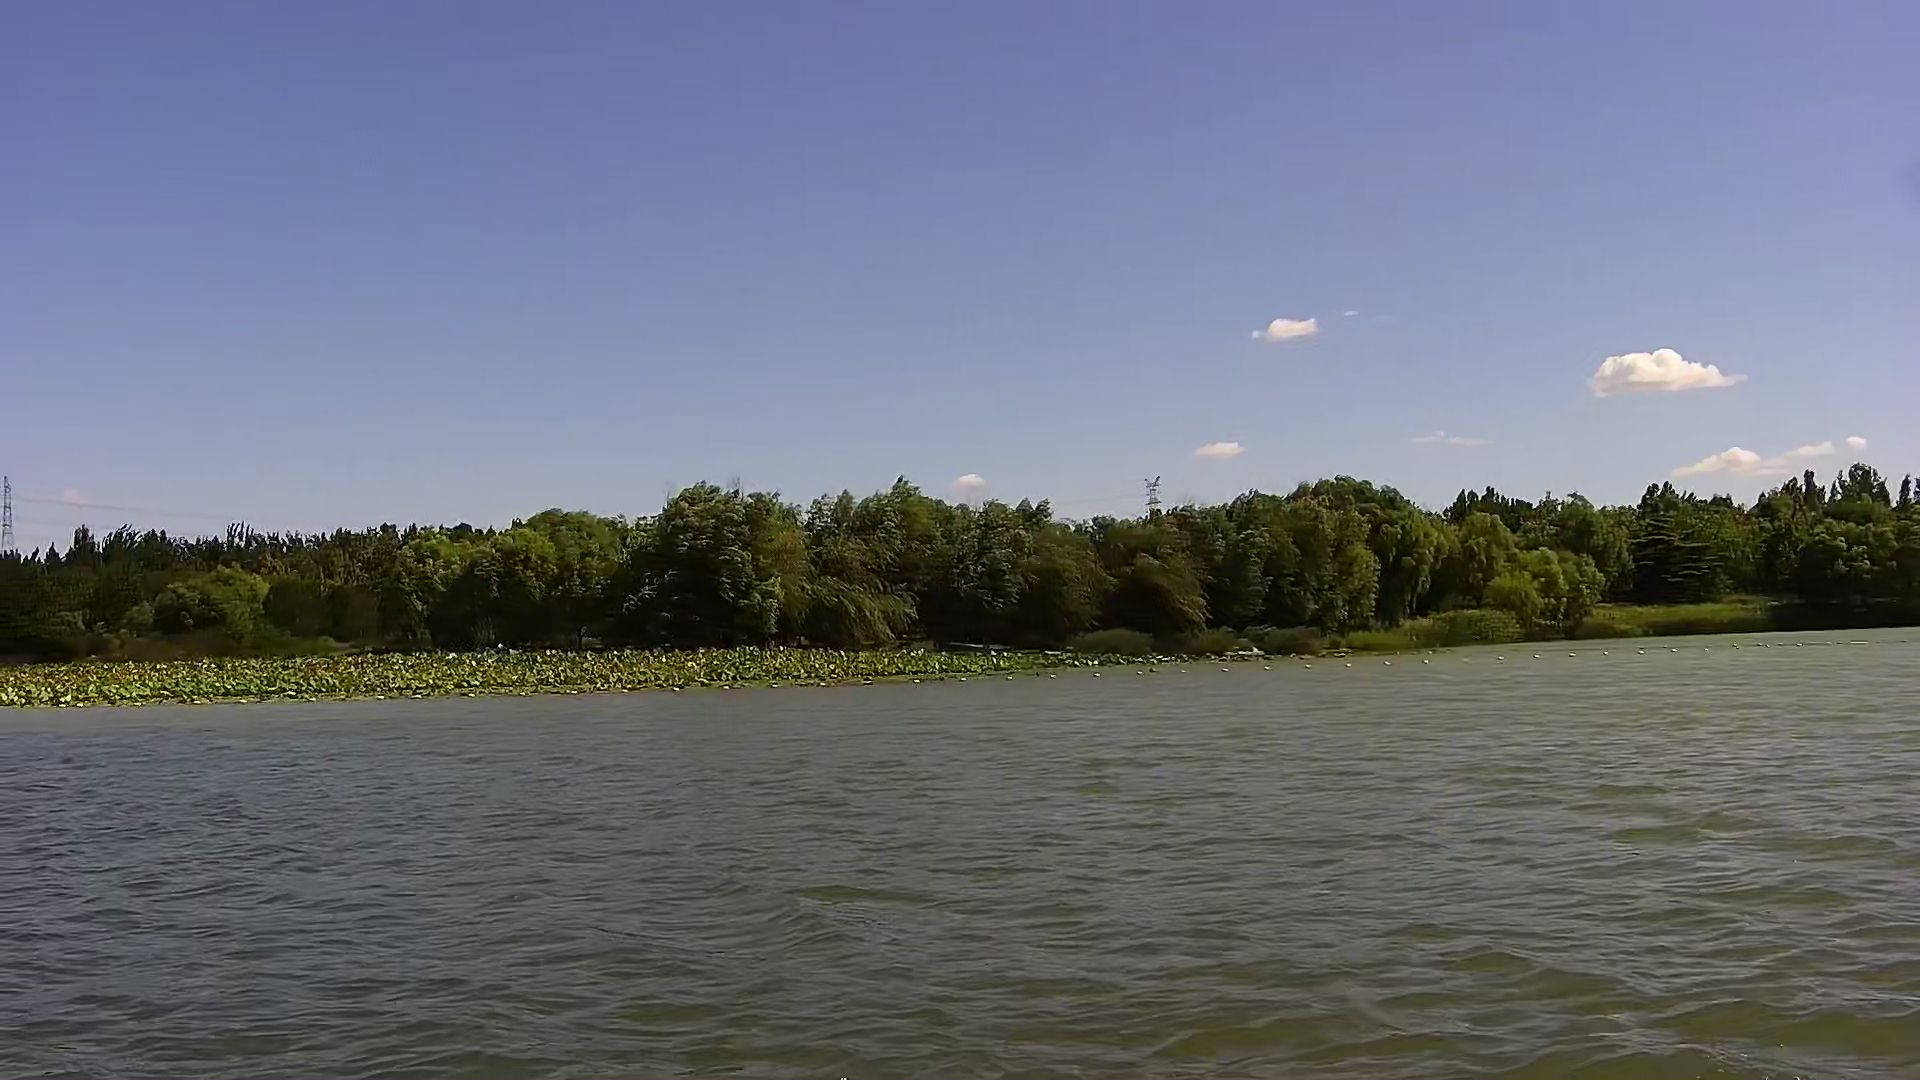grass: (1, 650, 1106, 704)
